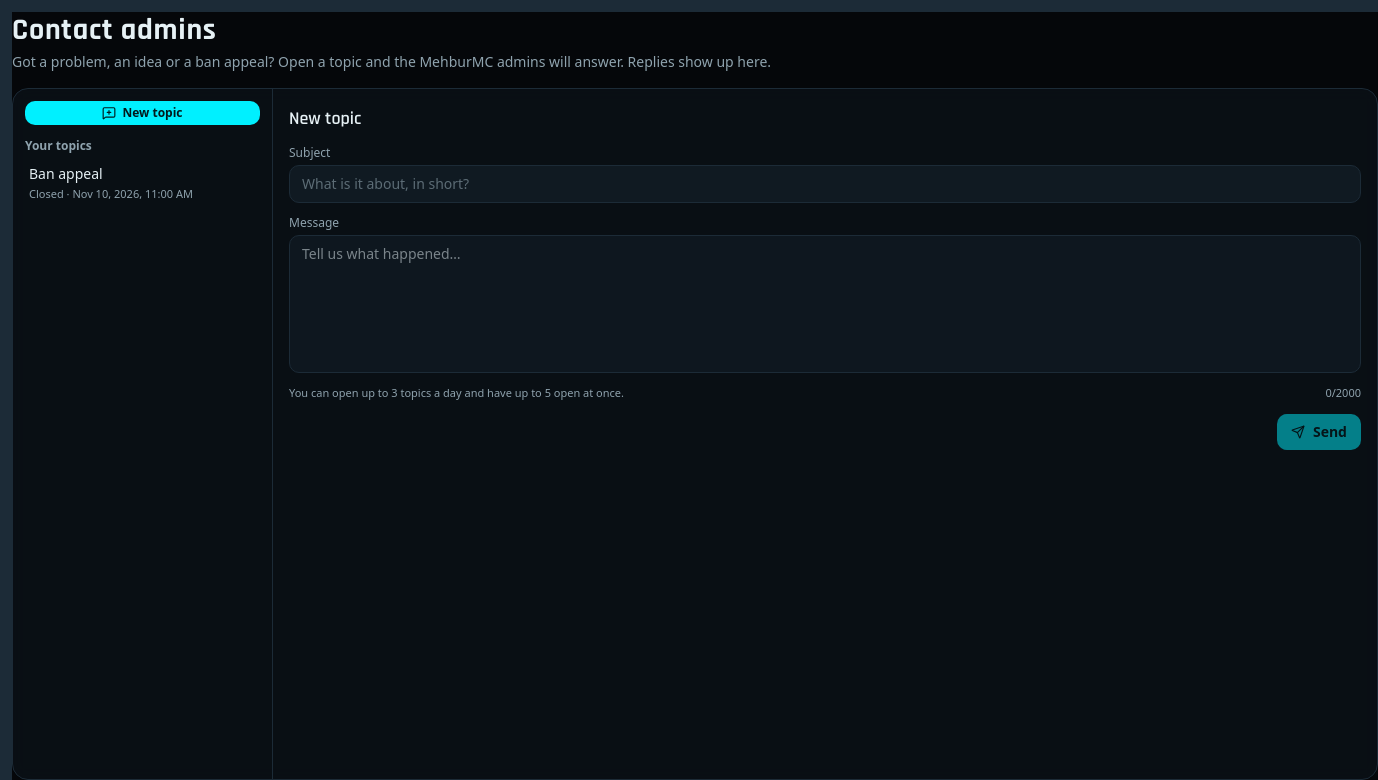
Scenario: Contact admins › shows a note instead of the composer on a closed topic
Step 1. Click the button "Ban appeal Closed · Nov 10, 2026, 11:00 AM" → coordinates (142, 183), box top-left (21, 158), bottom-right (264, 208)
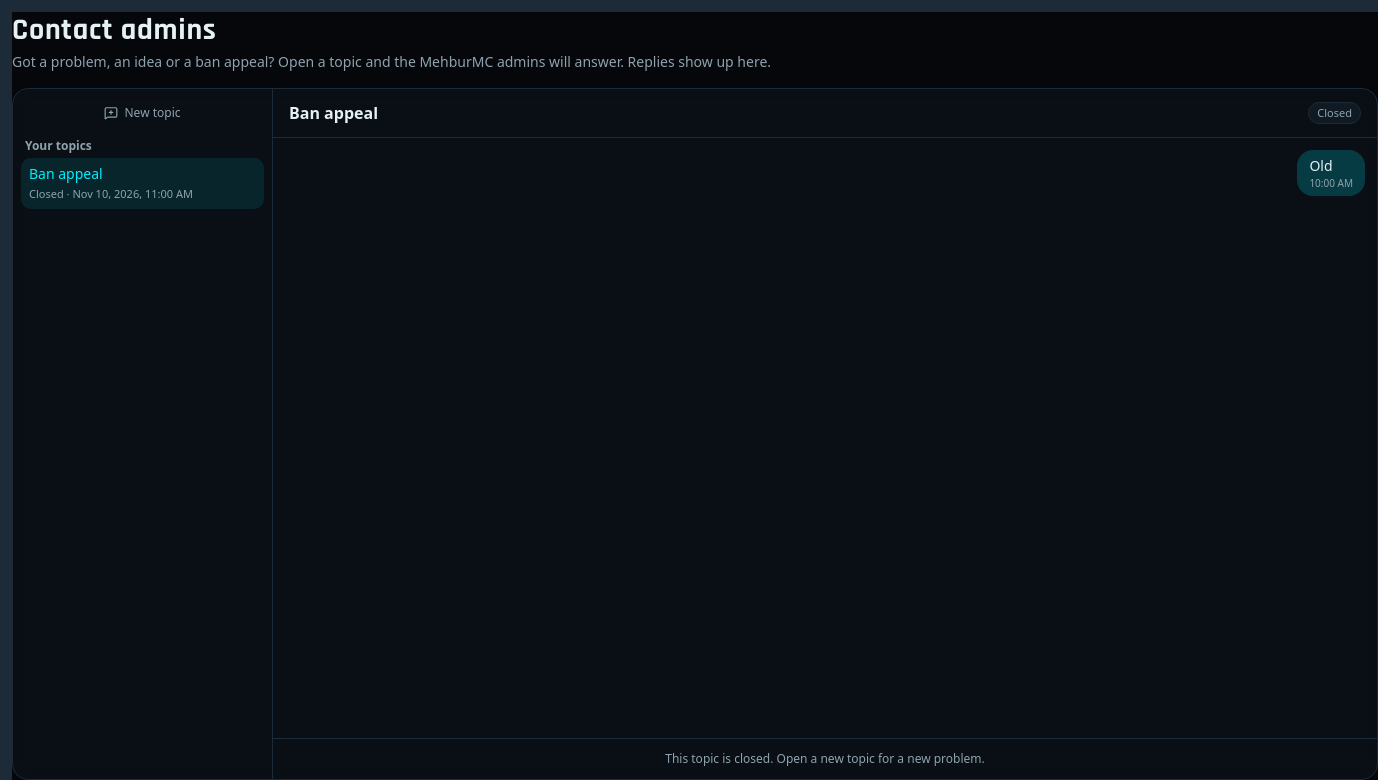
Check: the text "This topic is closed. Open a new topic for a new problem." is shown, box top-left (273, 738), bottom-right (1377, 779)
